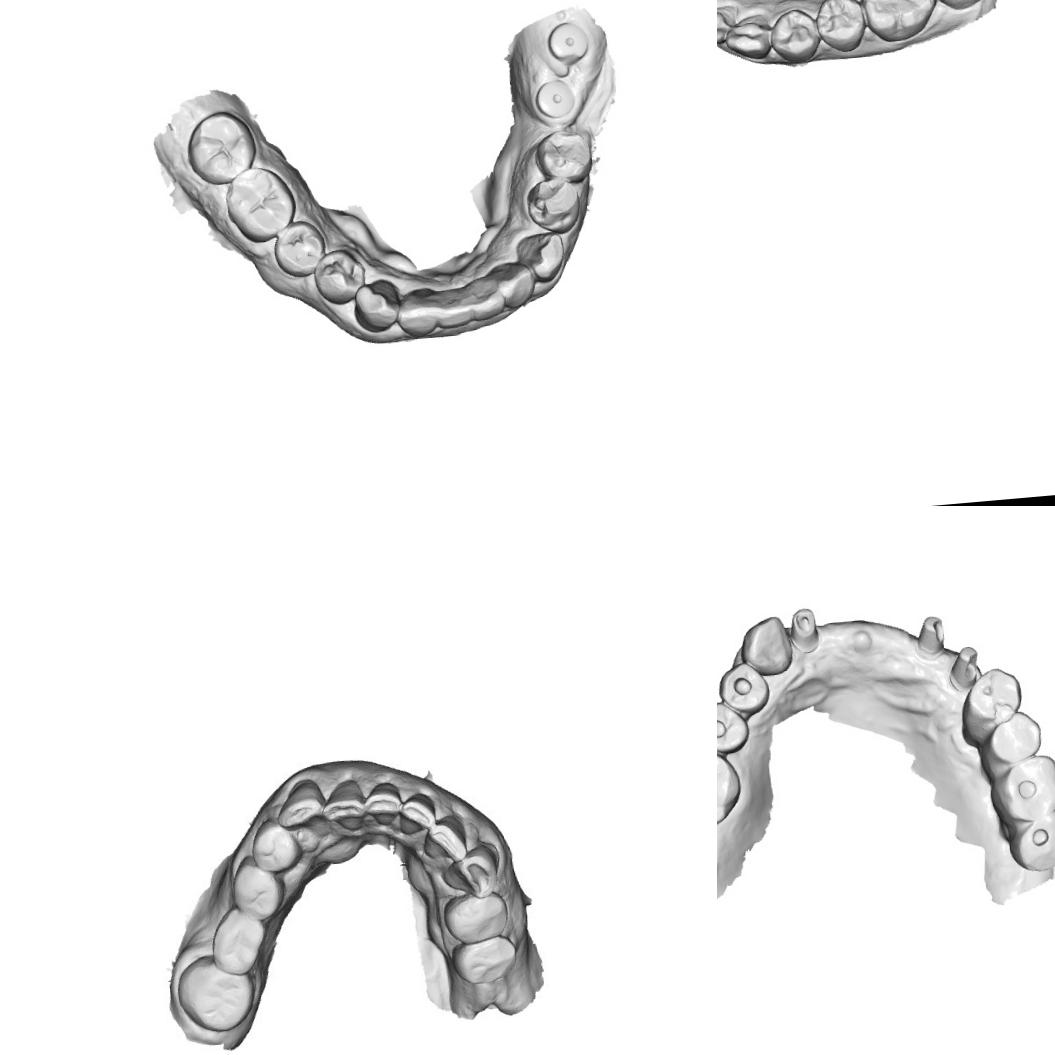abutment: (944, 643, 982, 697), (912, 610, 950, 660), (786, 604, 822, 654)
canine: (510, 224, 572, 286), (736, 613, 794, 678), (720, 8, 779, 68), (442, 844, 500, 902), (348, 276, 402, 334), (272, 778, 322, 829)
implant: (543, 16, 594, 66), (533, 78, 577, 122)
incisor: (390, 282, 442, 339), (488, 256, 538, 312), (461, 266, 507, 324), (319, 778, 368, 830), (432, 280, 476, 331), (420, 818, 466, 862), (362, 779, 398, 824), (400, 795, 438, 833), (717, 0, 740, 50)
molar: (222, 163, 303, 249), (180, 107, 262, 190), (174, 957, 256, 1036), (987, 751, 1055, 823), (208, 910, 267, 975), (858, 0, 943, 44), (1005, 808, 1055, 873), (717, 738, 744, 830)
premolar: (954, 664, 1026, 747), (976, 709, 1044, 773), (530, 125, 598, 188), (269, 214, 330, 284), (522, 176, 592, 236), (441, 890, 507, 945), (764, 5, 822, 67), (452, 934, 518, 988), (311, 246, 368, 308), (811, 0, 870, 56), (717, 659, 771, 717), (233, 856, 283, 916), (252, 823, 294, 869), (717, 698, 750, 756)
